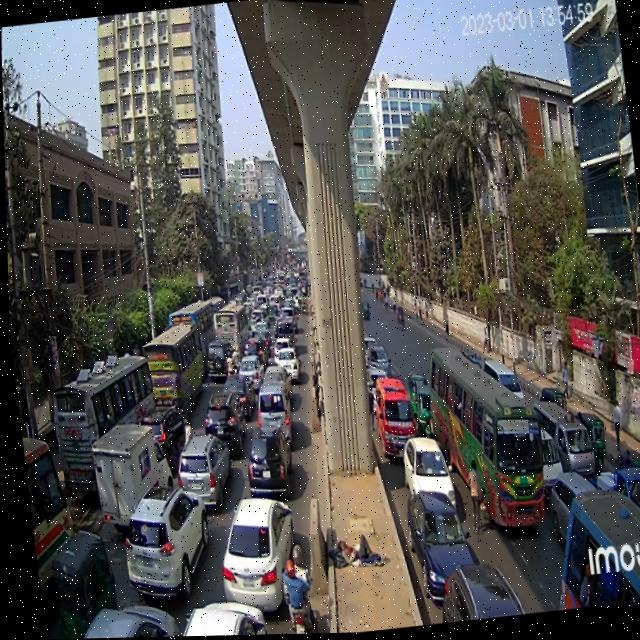cng: (47, 526, 120, 634), (409, 383, 440, 441), (581, 413, 608, 470)
